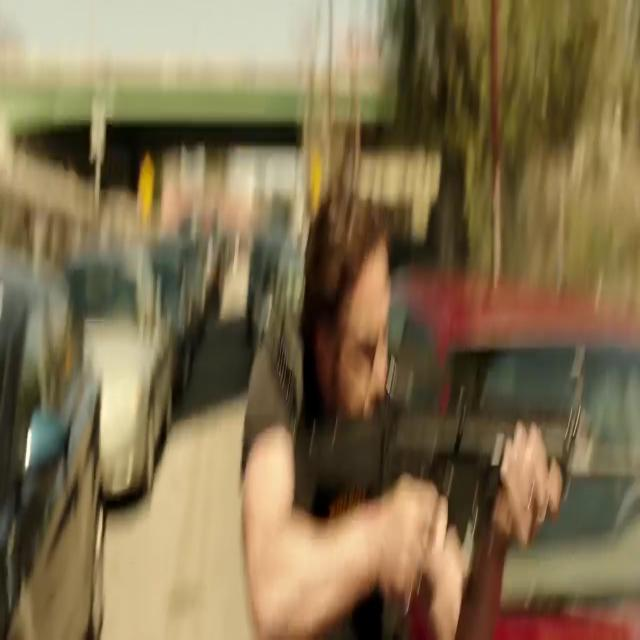Weapon: (274, 382, 591, 594)
